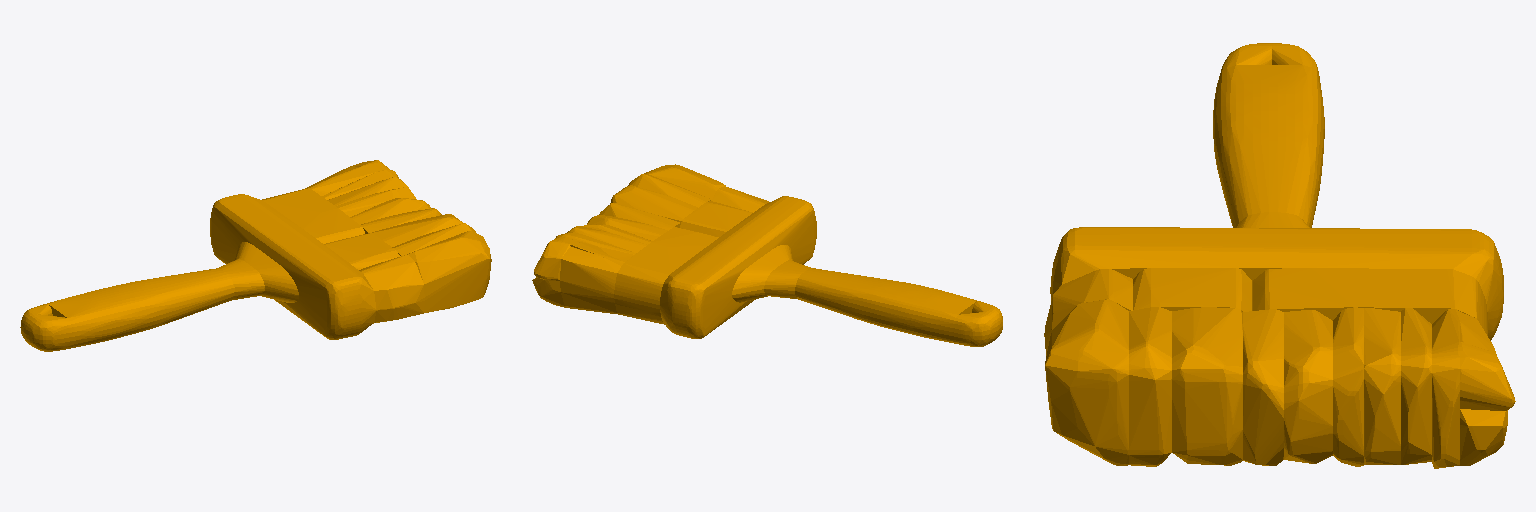
URDF robot description (blue_brush):
<?xml version='1.0' encoding='utf-8'?>
<robot name="blue_brush">
  <link name="blue_brush">
    <visual>
      <origin xyz="0 0 0" rpy="0 0 0" />
      <geometry>
        <mesh filename="blue_brush.obj" scale="1 1 1" />
      </geometry>
    </visual>
    <collision>
      <origin xyz="0 0 0" rpy="0 0 0" />
      <geometry>
        <mesh filename="blue_brush_collision/decomp_0.obj" scale="1 1 1" />
      </geometry>
    </collision>
    <collision>
      <origin xyz="0 0 0" rpy="0 0 0" />
      <geometry>
        <mesh filename="blue_brush_collision/decomp_1.obj" scale="1 1 1" />
      </geometry>
    </collision>
    <collision>
      <origin xyz="0 0 0" rpy="0 0 0" />
      <geometry>
        <mesh filename="blue_brush_collision/decomp_2.obj" scale="1 1 1" />
      </geometry>
    </collision>
    <collision>
      <origin xyz="0 0 0" rpy="0 0 0" />
      <geometry>
        <mesh filename="blue_brush_collision/decomp_3.obj" scale="1 1 1" />
      </geometry>
    </collision>
    <collision>
      <origin xyz="0 0 0" rpy="0 0 0" />
      <geometry>
        <mesh filename="blue_brush_collision/decomp_4.obj" scale="1 1 1" />
      </geometry>
    </collision>
    <collision>
      <origin xyz="0 0 0" rpy="0 0 0" />
      <geometry>
        <mesh filename="blue_brush_collision/decomp_5.obj" scale="1 1 1" />
      </geometry>
    </collision>
    <collision>
      <origin xyz="0 0 0" rpy="0 0 0" />
      <geometry>
        <mesh filename="blue_brush_collision/decomp_6.obj" scale="1 1 1" />
      </geometry>
    </collision>
    <collision>
      <origin xyz="0 0 0" rpy="0 0 0" />
      <geometry>
        <mesh filename="blue_brush_collision/decomp_7.obj" scale="1 1 1" />
      </geometry>
    </collision>
    <collision>
      <origin xyz="0 0 0" rpy="0 0 0" />
      <geometry>
        <mesh filename="blue_brush_collision/decomp_8.obj" scale="1 1 1" />
      </geometry>
    </collision>
    <collision>
      <origin xyz="0 0 0" rpy="0 0 0" />
      <geometry>
        <mesh filename="blue_brush_collision/decomp_9.obj" scale="1 1 1" />
      </geometry>
    </collision>
    <collision>
      <origin xyz="0 0 0" rpy="0 0 0" />
      <geometry>
        <mesh filename="blue_brush_collision/decomp_10.obj" scale="1 1 1" />
      </geometry>
    </collision>
    <collision>
      <origin xyz="0 0 0" rpy="0 0 0" />
      <geometry>
        <mesh filename="blue_brush_collision/decomp_11.obj" scale="1 1 1" />
      </geometry>
    </collision>
    <collision>
      <origin xyz="0 0 0" rpy="0 0 0" />
      <geometry>
        <mesh filename="blue_brush_collision/decomp_12.obj" scale="1 1 1" />
      </geometry>
    </collision>
    <collision>
      <origin xyz="0 0 0" rpy="0 0 0" />
      <geometry>
        <mesh filename="blue_brush_collision/decomp_13.obj" scale="1 1 1" />
      </geometry>
    </collision>
    <collision>
      <origin xyz="0 0 0" rpy="0 0 0" />
      <geometry>
        <mesh filename="blue_brush_collision/decomp_14.obj" scale="1 1 1" />
      </geometry>
    </collision>
    <collision>
      <origin xyz="0 0 0" rpy="0 0 0" />
      <geometry>
        <mesh filename="blue_brush_collision/decomp_15.obj" scale="1 1 1" />
      </geometry>
    </collision>
    <collision>
      <origin xyz="0 0 0" rpy="0 0 0" />
      <geometry>
        <mesh filename="blue_brush_collision/decomp_16.obj" scale="1 1 1" />
      </geometry>
    </collision>
    <collision>
      <origin xyz="0 0 0" rpy="0 0 0" />
      <geometry>
        <mesh filename="blue_brush_collision/decomp_17.obj" scale="1 1 1" />
      </geometry>
    </collision>
    <collision>
      <origin xyz="0 0 0" rpy="0 0 0" />
      <geometry>
        <mesh filename="blue_brush_collision/decomp_18.obj" scale="1 1 1" />
      </geometry>
    </collision>
    <collision>
      <origin xyz="0 0 0" rpy="0 0 0" />
      <geometry>
        <mesh filename="blue_brush_collision/decomp_19.obj" scale="1 1 1" />
      </geometry>
    </collision>
    <collision>
      <origin xyz="0 0 0" rpy="0 0 0" />
      <geometry>
        <mesh filename="blue_brush_collision/decomp_20.obj" scale="1 1 1" />
      </geometry>
    </collision>
    <inertial>
      <origin xyz="0.164231 1.88614e-05 -0.000117191" rpy="0 0 0" />
      <mass value="0.271342" />
      <inertia ixx="0.000493682" ixy="-8.03071e-06" ixz="-2.8559e-06" iyy="0.00118521" iyz="5.01254e-06" izz="0.00161915" />
    </inertial>
  </link>
</robot>

--- Render facts (derived) ---
3 views of the same robot in one strip: view 1: azimuth 30°, elevation 25°; view 2: azimuth 150°, elevation 25°; view 3: azimuth 270°, elevation 25° (orthographic).
Robot: blue_brush — 1 links, 0 joints (none); root link blue_brush; default pose: all joints at 0.
Visible links, largest first — view 1: blue_brush; view 2: blue_brush; view 3: blue_brush.
Link boxes in pixels (<box>): blue_brush: <box>20,160,491,351</box>; blue_brush: <box>532,164,1002,346</box>; blue_brush: <box>1044,43,1515,468</box>.
Size in the robot's own frame: 0.3017 by 0.1669 by 0.0491 metres.
Meshes: 1 distinct files referenced, 1 mesh visuals loaded (1 OBJ).
